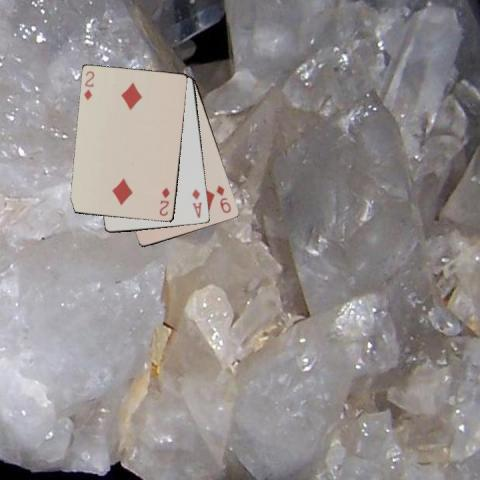2d: (81, 68, 96, 102), (157, 185, 171, 217)
9d: (213, 182, 233, 214)
Ad: (190, 186, 204, 219)
